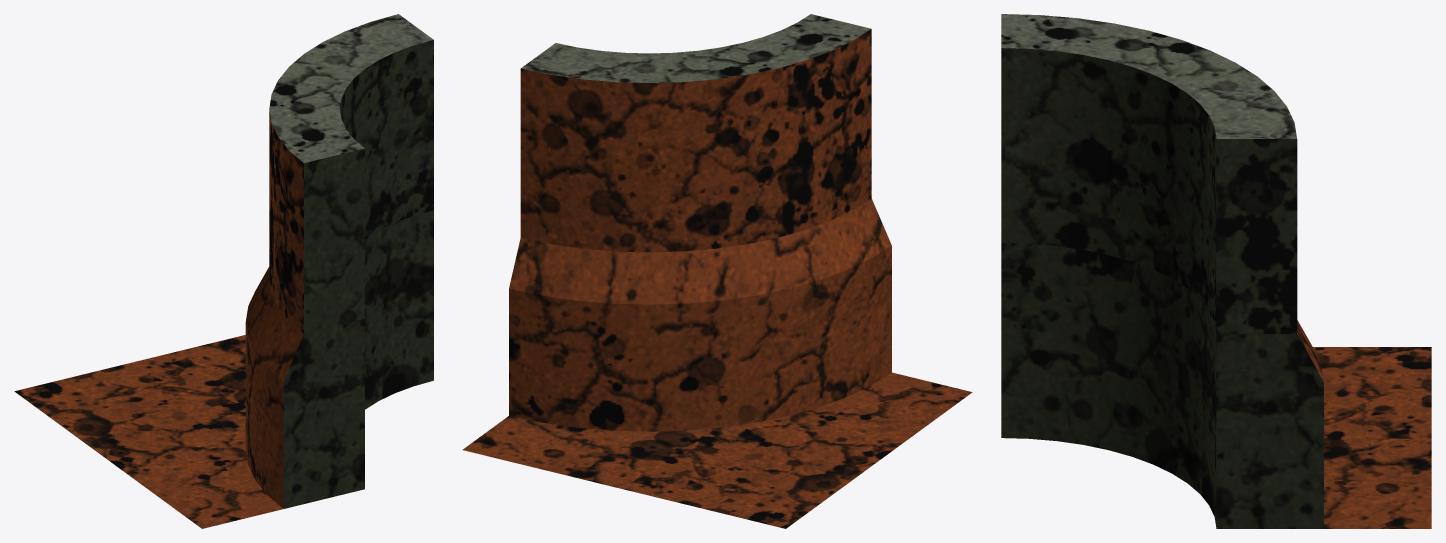
The model's file is Env_Ctn_Wall_Large_Corner_Inside_CW.fbx.
The picture shows the model from 3 angles, left to right: view 1: azimuth 30°, elevation 25°; view 2: azimuth 150°, elevation 25°; view 3: azimuth 270°, elevation 25°; orthographic projection. The views are drawn at different scales.
Parts seen in each view (by area): view 1: Wall_Large_Corner_Inside_Top, Wall_Large_Corner_Inside, Floor_Edge_Large_Corner_Inside; view 2: Wall_Large_Corner_Inside_Top, Wall_Large_Corner_Inside, Floor_Edge_Large_Corner_Inside; view 3: Wall_Large_Corner_Inside_Top, Wall_Large_Corner_Inside, Floor_Edge_Large_Corner_Inside.
Boxes of the visible parts, box(x1,y1,x2,y2) form: Wall_Large_Corner_Inside_Top: box(269, 14, 433, 333); Wall_Large_Corner_Inside: box(245, 210, 433, 508); Floor_Edge_Large_Corner_Inside: box(14, 335, 282, 528); Wall_Large_Corner_Inside_Top: box(520, 14, 871, 252); Wall_Large_Corner_Inside: box(509, 198, 891, 431); Floor_Edge_Large_Corner_Inside: box(462, 372, 972, 528); Wall_Large_Corner_Inside_Top: box(1001, 14, 1297, 333); Wall_Large_Corner_Inside: box(1001, 243, 1323, 528); Floor_Edge_Large_Corner_Inside: box(1313, 347, 1431, 528).
Bounding box in the file's own units: 200 × 200 × 200.
